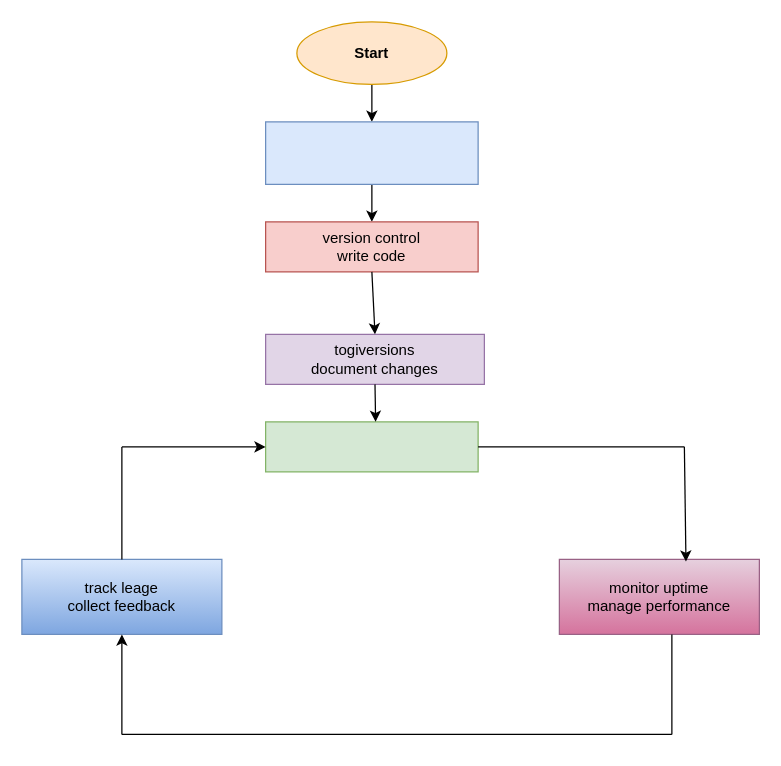
Image size: 781x766. Some labels were removed from this diagram. The shapes that lost their labels are listed below. From the top down, each one's box as (x1, y1, x2, y2) in pixels, then its label:
(264, 121, 478, 184): Define features, ethlicturcn Assign roles
(264, 421, 478, 472): setup acployment lounch app
